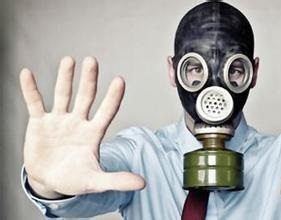face_mask: (178, 35, 252, 122)
